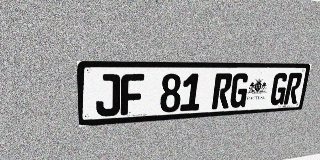1: (180, 73, 202, 111)
8: (160, 74, 182, 113)
F: (121, 74, 144, 115)
G: (229, 73, 250, 108), (269, 73, 289, 105)
J: (95, 74, 120, 117)
R: (211, 73, 233, 109), (283, 73, 303, 105)
